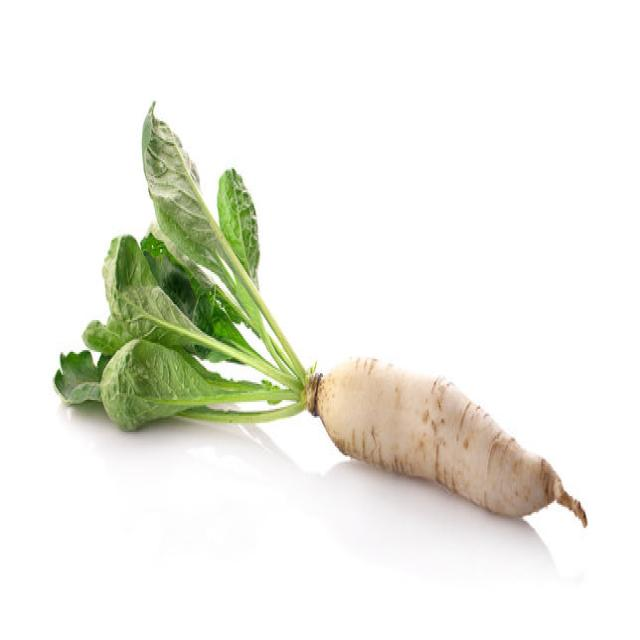Radish: (54, 98, 587, 530), (53, 98, 311, 432)
